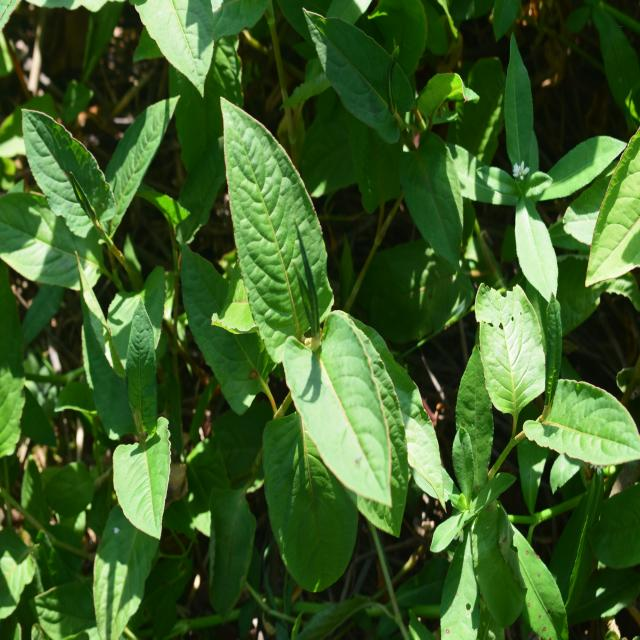Chinese_knotweed: (217, 104, 420, 528), (4, 73, 167, 300)
